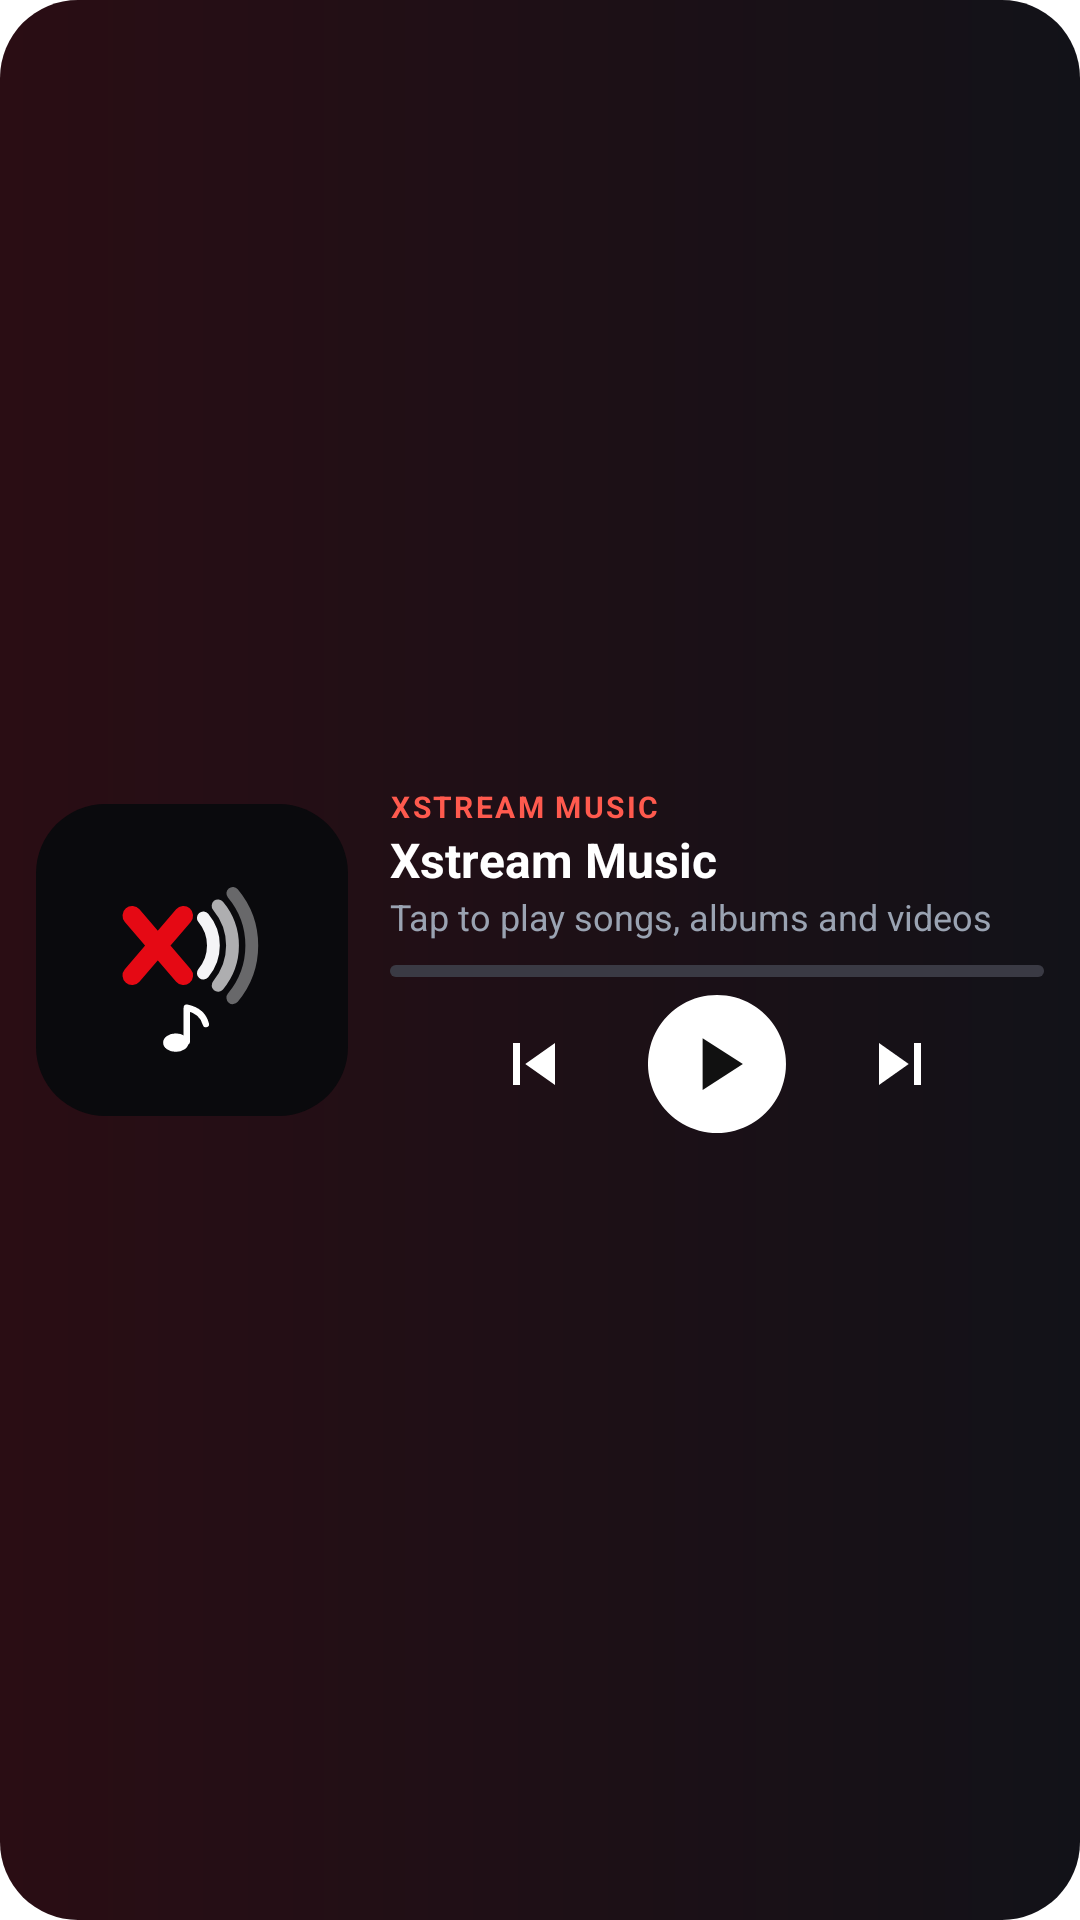

Where icons sit on this 1080 × 1920 app screen, as (x1, y1, x2, y2):
Next: (879, 1043, 921, 1085)
Play or pause: (648, 995, 786, 1133)
Previous: (513, 1043, 555, 1085)
